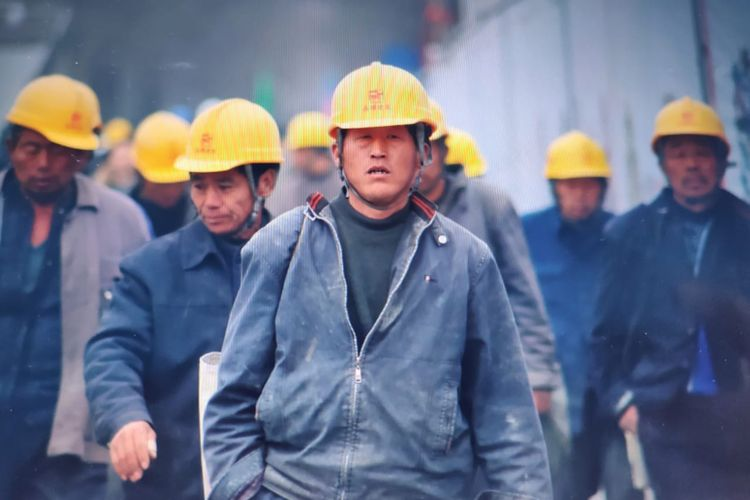Safety Helmet: (316, 50, 438, 223), (165, 85, 285, 245), (3, 64, 114, 215), (643, 85, 748, 235), (527, 120, 621, 240), (127, 100, 188, 219)
